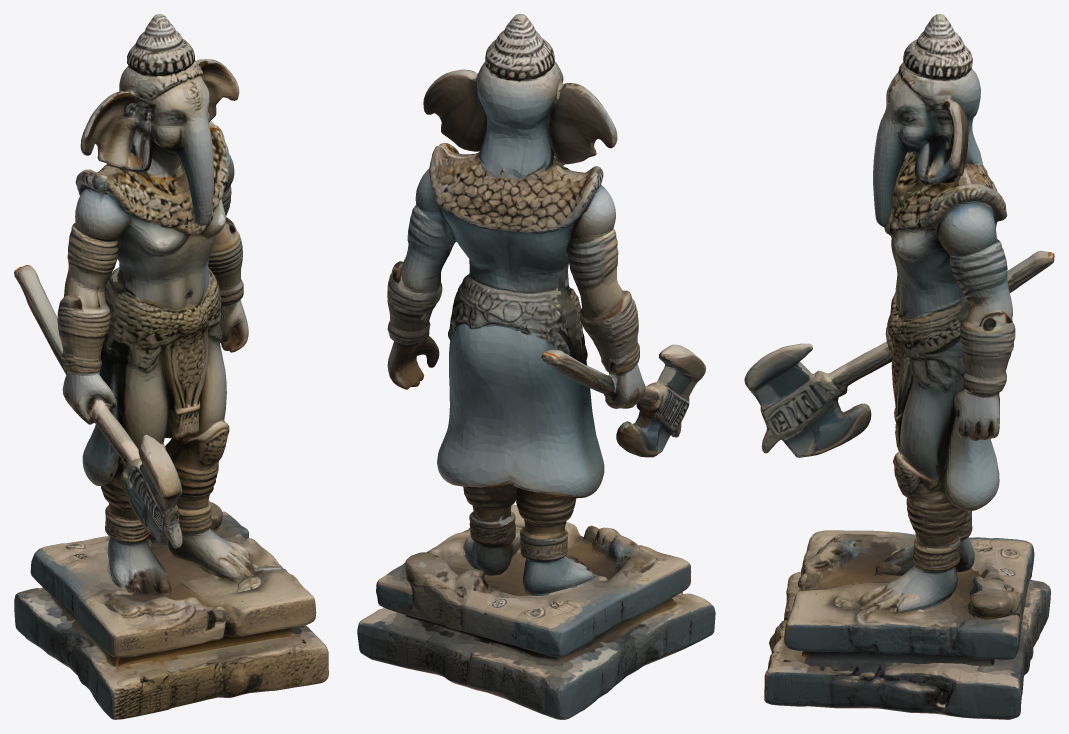
Rendered from guardian-deity-broken-statue-optimized.glb.
3 renders of one model, left to right at view 1: azimuth 30°, elevation 25°; view 2: azimuth 150°, elevation 25°; view 3: azimuth 270°, elevation 25°, orthographic. The views are drawn at different scales.
Parts seen in each view (by area): view 1: b672fae3-7797-41e2-950b-0b141f772623_texturing.obj; view 2: b672fae3-7797-41e2-950b-0b141f772623_texturing.obj; view 3: b672fae3-7797-41e2-950b-0b141f772623_texturing.obj.
Boxes of the visible parts, x1,y1,x2,y2 form: b672fae3-7797-41e2-950b-0b141f772623_texturing.obj: [14, 14, 328, 719]; b672fae3-7797-41e2-950b-0b141f772623_texturing.obj: [357, 14, 715, 719]; b672fae3-7797-41e2-950b-0b141f772623_texturing.obj: [744, 14, 1054, 719].
Size of the model in its own units: 0.7202 by 1.8 by 0.7793.
1 material, 1 textured.
